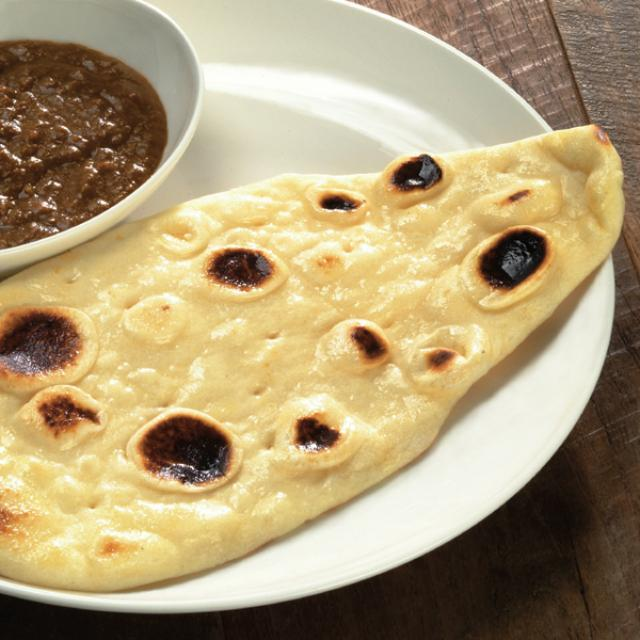Beef Curry: (0, 3, 153, 249)
